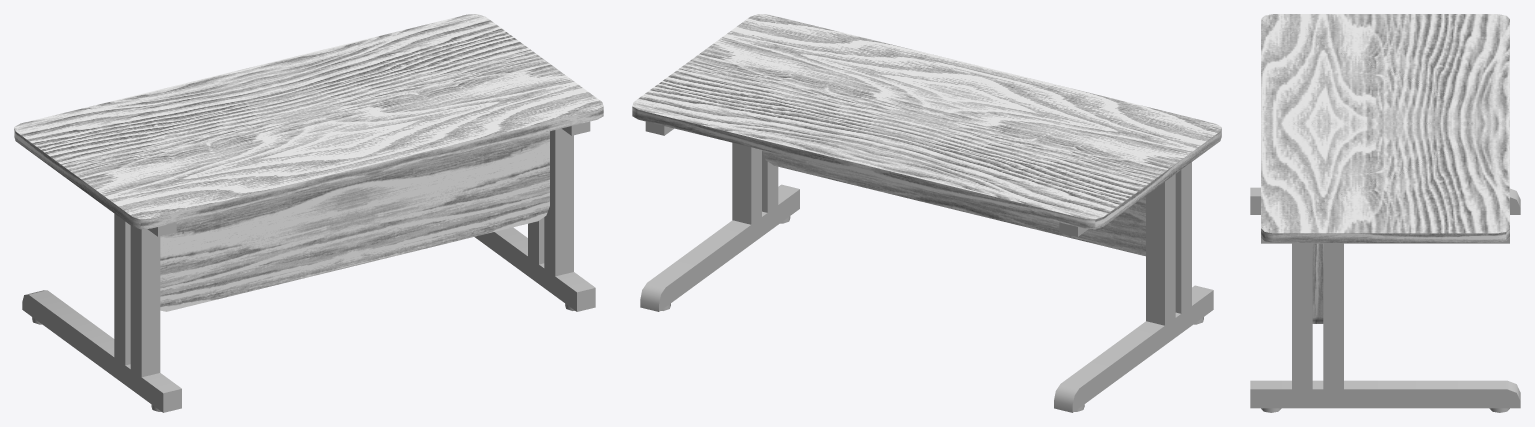
The model's file is Desk0.fbx.
3 renders of one model, left to right at view 1: azimuth 30°, elevation 25°; view 2: azimuth 150°, elevation 25°; view 3: azimuth 270°, elevation 25°, orthographic. The views are drawn at different scales.
Visible parts, largest first — view 1: Cube; view 2: Cube; view 3: Cube.
Boxes of the visible parts, x1,y1,x2,y2 form: Cube: (14, 14, 603, 412); Cube: (632, 14, 1221, 412); Cube: (1250, 14, 1520, 412).
Bounding box in the file's own units: 2 × 0.8 × 1.04.
